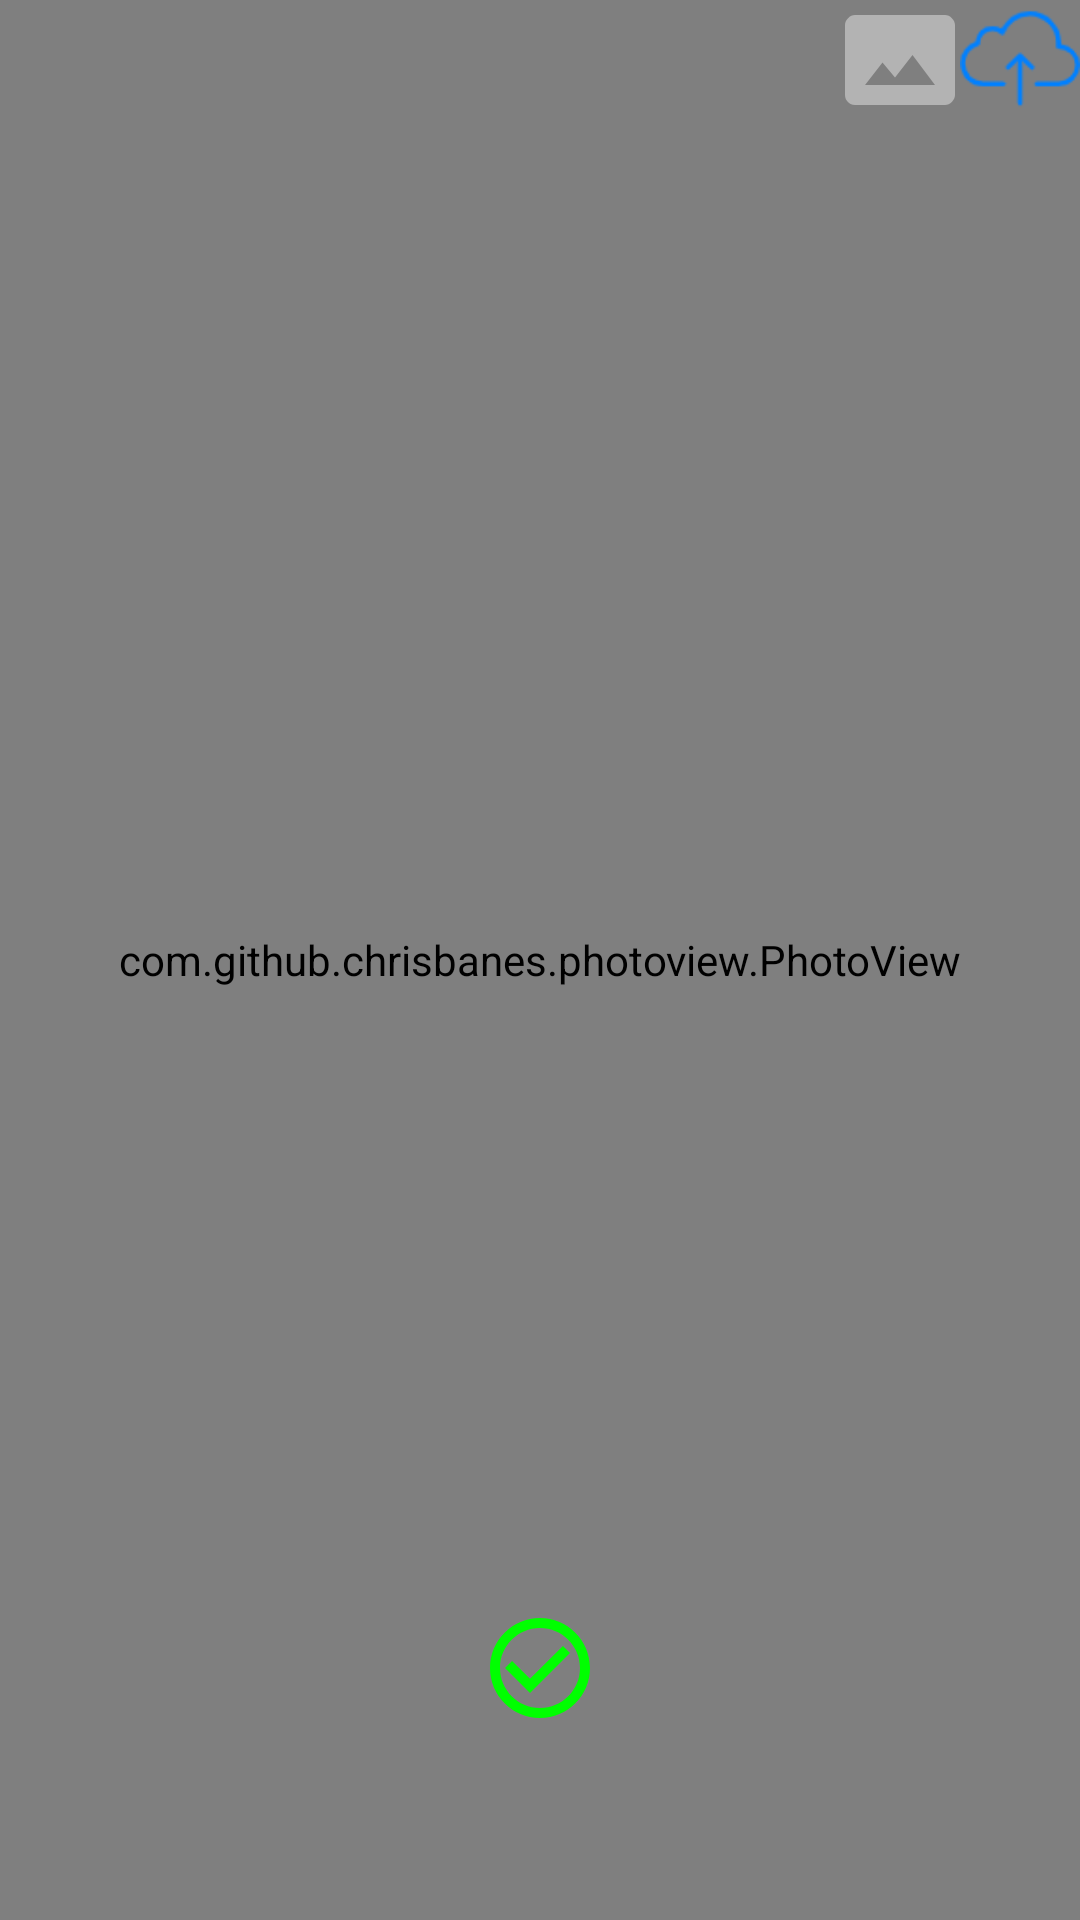

Icon bounding boxes for this 1080px x 1920px phone screenshot, format (x1, y1, x2, y2):
check circle: (490, 1618, 590, 1718)
upload: (960, 11, 1080, 106)
